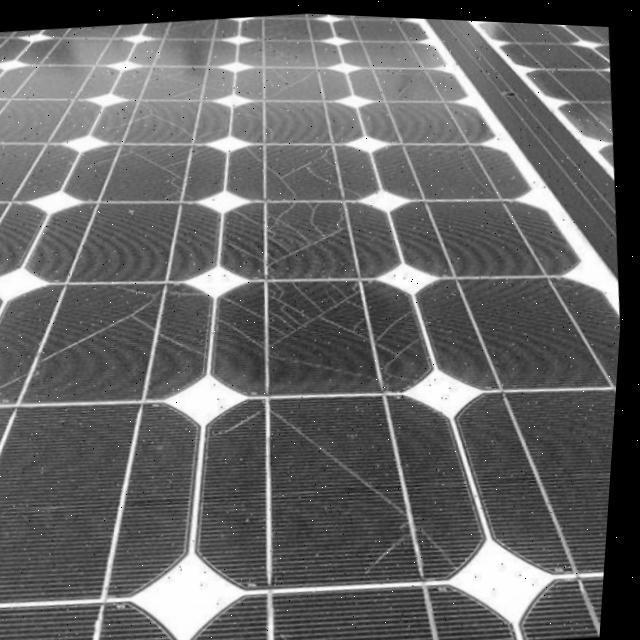Anomaly Solar Panel: (0, 11, 624, 640)
Normal Solar Panel: (468, 16, 616, 173)
Structural Damage: (273, 403, 417, 511), (43, 274, 210, 363), (252, 181, 358, 266), (267, 268, 374, 349), (374, 302, 436, 382), (271, 144, 369, 192), (275, 346, 383, 375), (128, 145, 193, 188), (108, 106, 195, 135), (372, 524, 420, 571), (221, 311, 273, 348), (428, 519, 467, 565), (224, 402, 270, 435), (223, 290, 272, 318), (232, 201, 268, 225), (232, 238, 268, 259), (245, 140, 270, 160)
